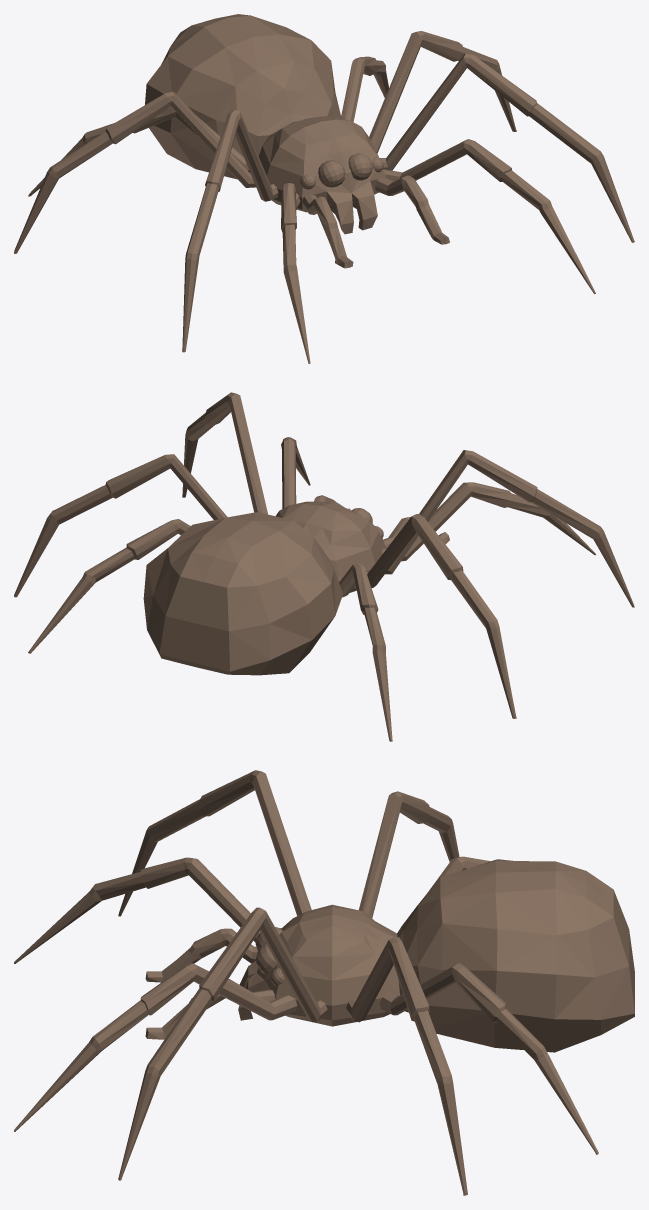
3 renders of one model, top to bottom at view 1: azimuth 30°, elevation 25°; view 2: azimuth 150°, elevation 25°; view 3: azimuth 270°, elevation 25°, orthographic. The views are drawn at different scales.
Visible parts, largest first — view 1: world; view 2: world; view 3: world.
Part boxes in pixels (x1,y1,x2,y2): world: [14, 14, 634, 363]; world: [14, 392, 634, 741]; world: [14, 770, 634, 1195].
Bounding box in the file's own units: 5.94 × 1.95 × 5.27.
